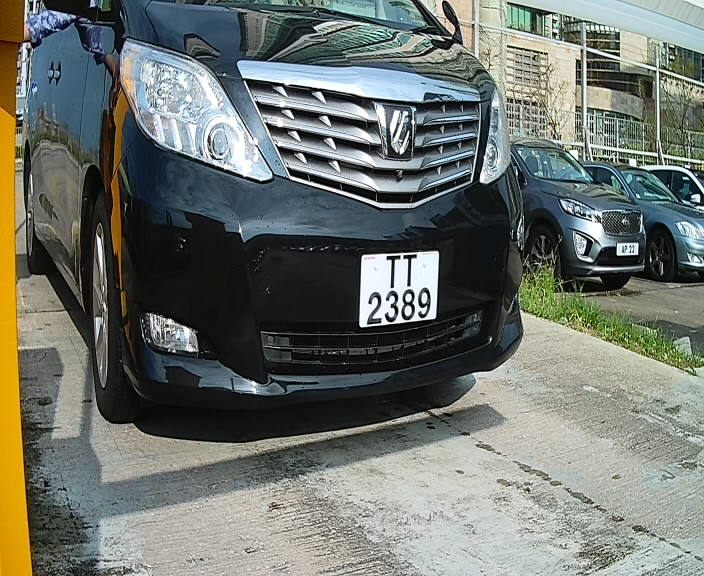Car: (18, 2, 529, 457)
License Plate: (353, 244, 450, 339)
